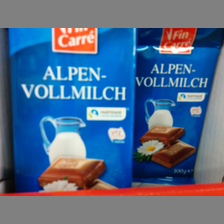chocolate: (9, 28, 135, 190), (138, 29, 215, 184)
